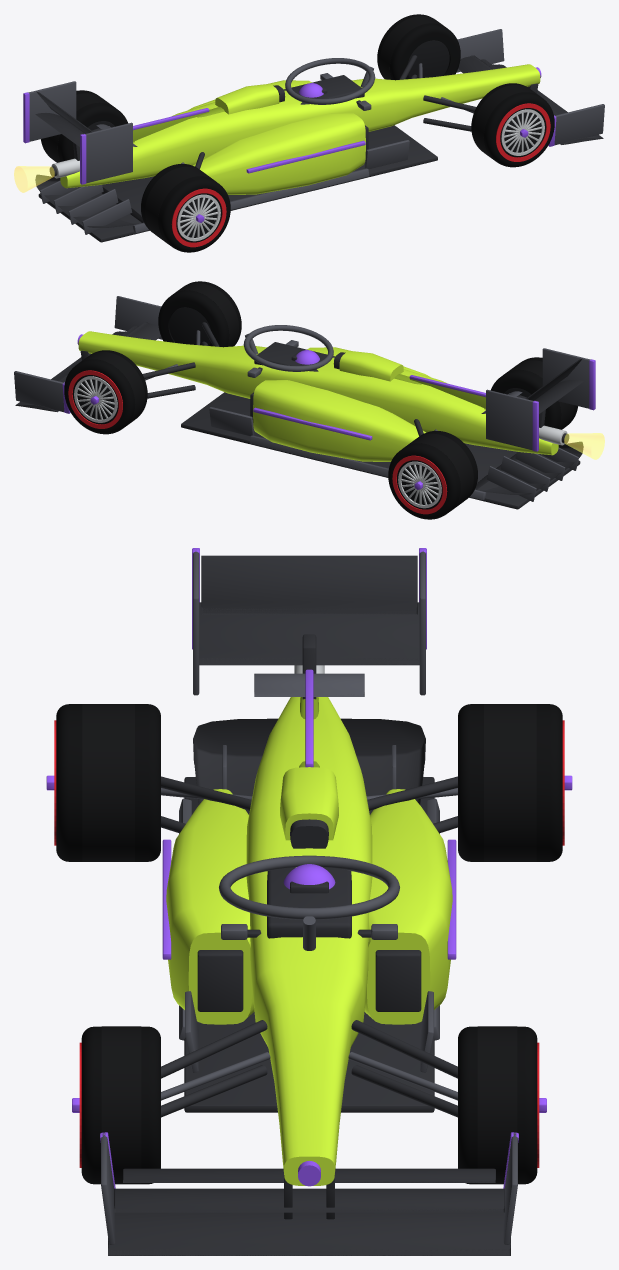
Rendered from f1-car.glb.
3 views of the same model, one above another, from view 1: azimuth 30°, elevation 25°; view 2: azimuth 150°, elevation 25°; view 3: azimuth 270°, elevation 25° (orthographic). The views are drawn at different scales.
Parts seen in each view (by area): view 1: PW_PW_Primary, PW_PW_CarbonLight, PW_PW_Carbon, PW_PW_Tyre, PW_PW_TyreCrown, PW_PW_Rim, PW_PW_RimBarrel, PW_PW_Accent, PW_PW_CompoundBand, PW_PW_HeatGlow, PW_PW_Secondary; view 2: PW_PW_Primary, PW_PW_CarbonLight, PW_PW_Carbon, PW_PW_Tyre, PW_PW_TyreCrown, PW_PW_Rim, PW_PW_RimBarrel, PW_PW_Accent, PW_PW_CompoundBand, PW_PW_HeatGlow, PW_PW_Secondary; view 3: PW_PW_Carbon, PW_PW_Primary, PW_PW_Tyre, PW_PW_TyreCrown, PW_PW_CarbonLight, PW_PW_Accent, PW_PW_CompoundBand.
Boxes of the visible parts, left/top/right/bottom form: PW_PW_Primary: left=60, top=64, right=540, bottom=194; PW_PW_CarbonLight: left=28, top=29, right=604, bottom=234; PW_PW_Carbon: left=35, top=55, right=603, bottom=242; PW_PW_Tyre: left=41, top=14, right=554, bottom=252; PW_PW_TyreCrown: left=44, top=16, right=540, bottom=243; PW_PW_Rim: left=51, top=109, right=544, bottom=241; PW_PW_RimBarrel: left=87, top=40, right=541, bottom=237; PW_PW_Accent: left=23, top=67, right=556, bottom=222; PW_PW_CompoundBand: left=171, top=103, right=550, bottom=247; PW_PW_HeatGlow: left=14, top=166, right=54, bottom=192; PW_PW_Secondary: left=133, top=107, right=224, bottom=142; PW_PW_Primary: left=78, top=331, right=558, bottom=461; PW_PW_CarbonLight: left=14, top=296, right=590, bottom=501; PW_PW_Carbon: left=15, top=322, right=583, bottom=509; PW_PW_Tyre: left=64, top=281, right=577, bottom=519; PW_PW_TyreCrown: left=78, top=283, right=574, bottom=510; PW_PW_Rim: left=74, top=376, right=567, bottom=508; PW_PW_RimBarrel: left=77, top=307, right=531, bottom=504; PW_PW_Accent: left=62, top=334, right=595, bottom=489; PW_PW_CompoundBand: left=68, top=370, right=447, bottom=514; PW_PW_HeatGlow: left=564, top=433, right=604, bottom=459; PW_PW_Secondary: left=394, top=374, right=485, bottom=409; PW_PW_Carbon: left=108, top=555, right=510, bottom=1255; PW_PW_Primary: left=166, top=697, right=452, bottom=1185; PW_PW_Tyre: left=56, top=704, right=562, bottom=1184; PW_PW_TyreCrown: left=82, top=704, right=536, bottom=1184; PW_PW_CarbonLight: left=101, top=551, right=517, bottom=1244; PW_PW_Accent: left=46, top=548, right=572, bottom=1188; PW_PW_CompoundBand: left=54, top=720, right=564, bottom=1167.
Size of the model in its own units: 5.81 by 1.19 by 2.48.
